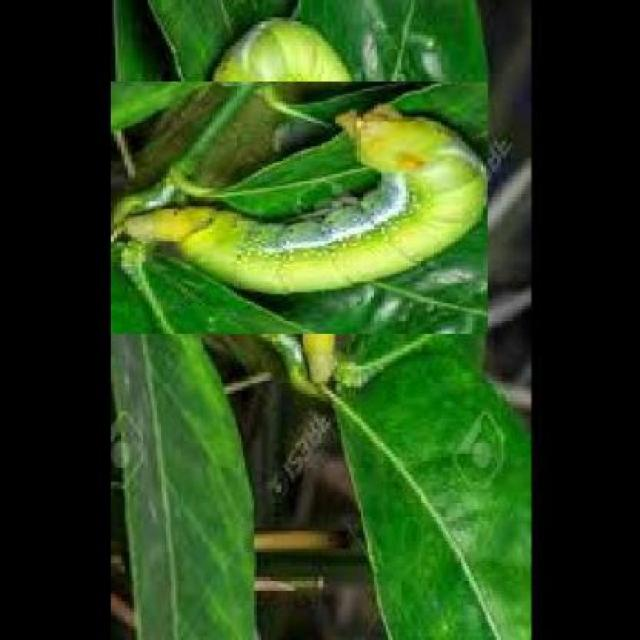Plaga: (143, 49, 460, 368)
